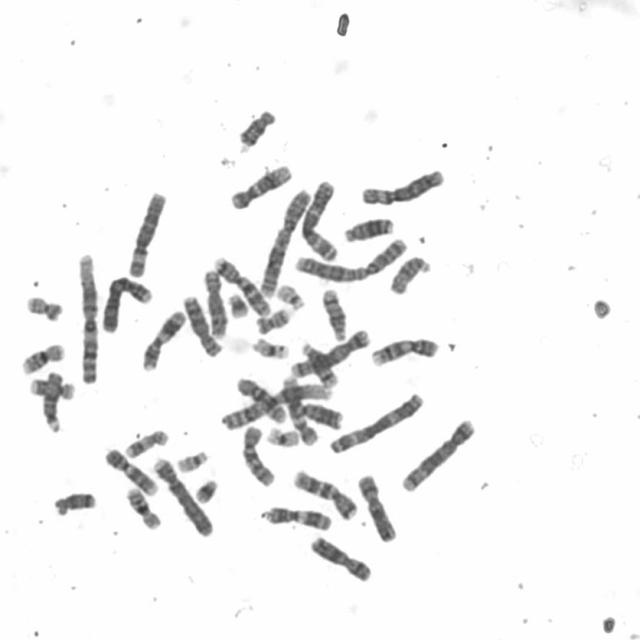A1: (216, 377, 337, 432), (72, 246, 101, 386)
A2: (255, 182, 312, 299), (288, 231, 408, 284)
A3: (324, 386, 426, 456), (294, 175, 340, 262)
B4: (148, 451, 215, 538), (96, 270, 154, 335)
B5: (397, 412, 478, 494), (285, 322, 372, 380)
C10: (231, 372, 288, 424), (236, 419, 277, 488)
C11: (136, 304, 187, 372), (259, 500, 334, 532)
C12: (224, 158, 294, 211), (277, 370, 321, 448)
C6: (122, 184, 168, 278), (356, 162, 446, 206)
C7: (209, 250, 273, 318), (288, 463, 360, 522)
C8: (177, 289, 224, 358), (198, 263, 228, 339)
C9: (100, 442, 160, 497), (365, 331, 442, 368)
D13: (286, 394, 344, 431), (338, 211, 396, 244)
D14: (296, 336, 339, 388), (317, 282, 349, 342)
D15: (384, 250, 432, 296), (38, 365, 65, 434)
E16: (120, 481, 163, 531), (16, 337, 67, 376)
E17: (119, 424, 170, 459), (24, 372, 76, 400)
E18: (233, 103, 278, 150), (47, 485, 98, 517)
F19: (246, 331, 291, 361), (262, 421, 302, 448)
F20: (20, 289, 65, 322), (251, 302, 293, 335)
G21: (189, 472, 220, 504), (222, 286, 250, 320)
G22: (271, 277, 307, 311), (172, 444, 210, 473)
X: (304, 530, 374, 583), (352, 468, 400, 544)
